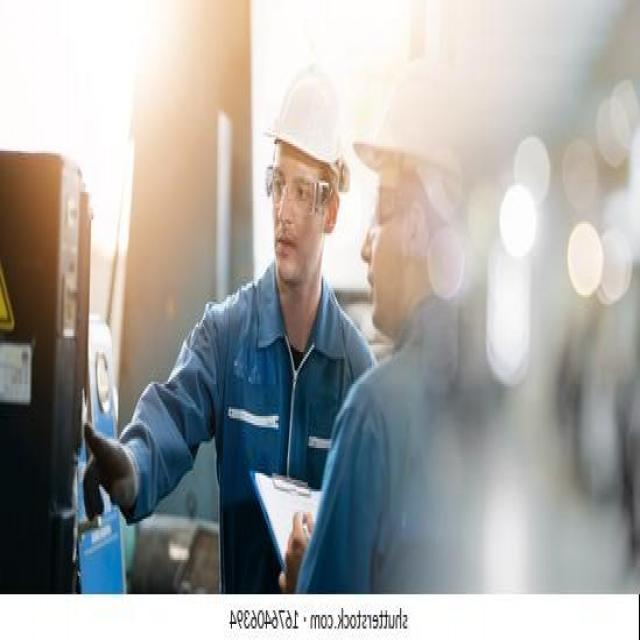Safety-Helmet: (348, 56, 480, 171), (266, 57, 354, 174)
